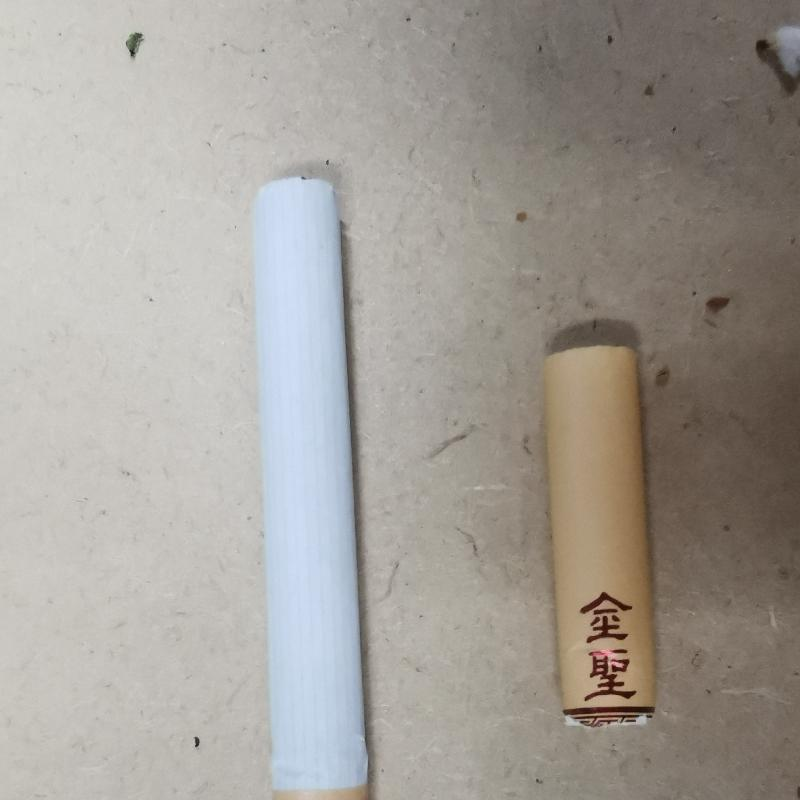cigarette: (242, 173, 384, 800), (531, 345, 667, 729)
